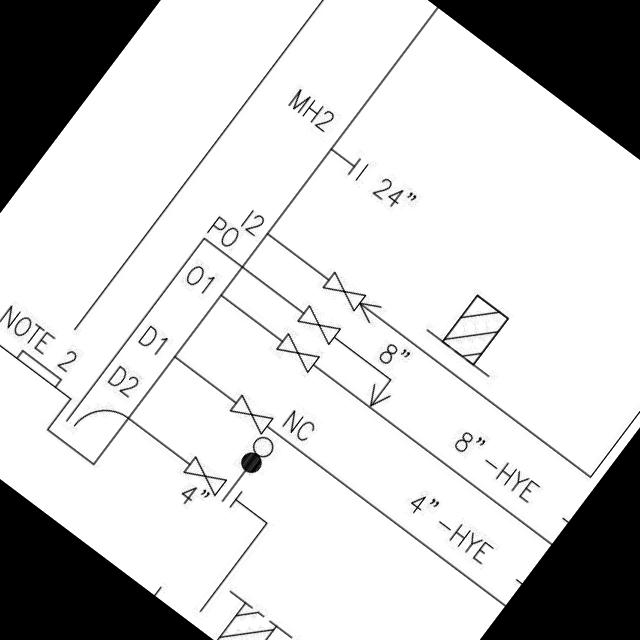GV: (313, 264, 375, 321), (290, 296, 350, 352), (176, 447, 234, 503), (268, 325, 326, 379), (223, 386, 280, 438)
